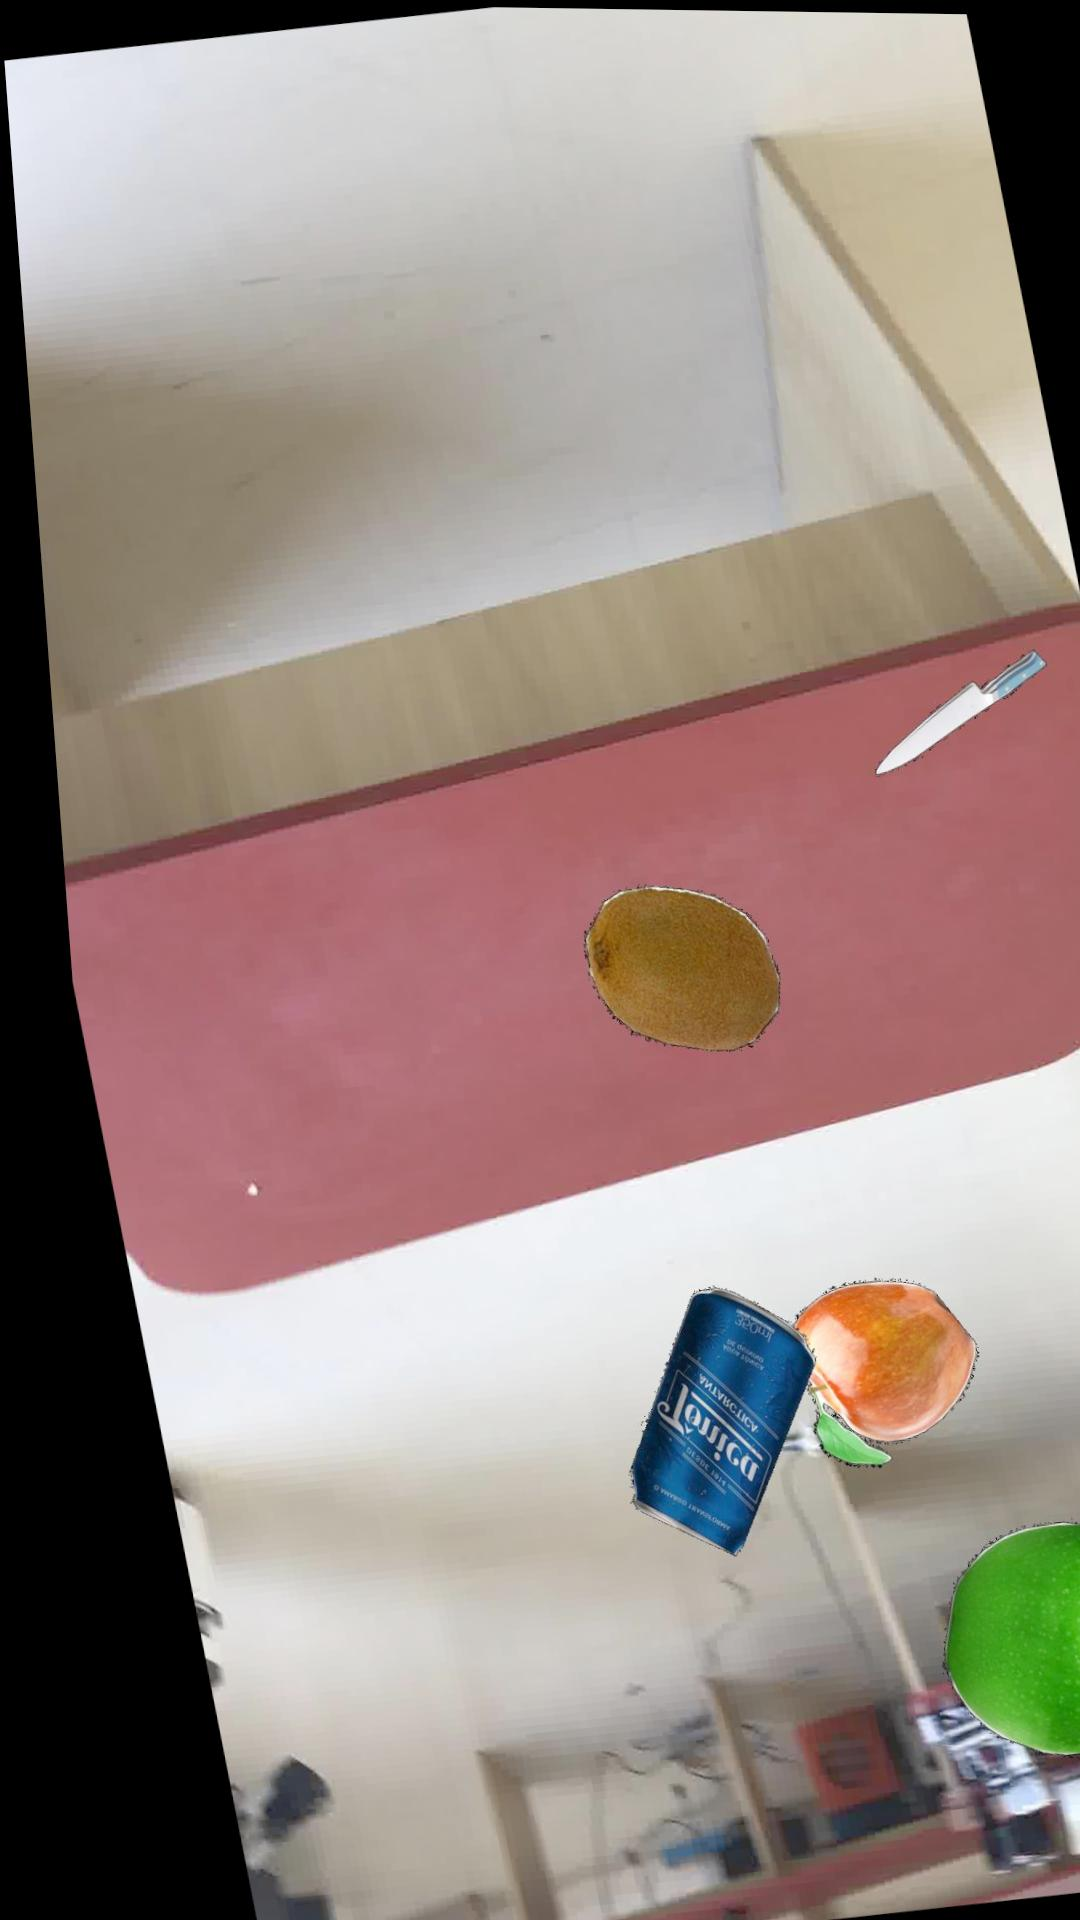apple: (770, 1278, 953, 1466)
green apple: (914, 1519, 1080, 1755)
kiwi: (566, 885, 762, 1050)
knife: (860, 646, 1034, 773)
tonic: (605, 1286, 793, 1555)
